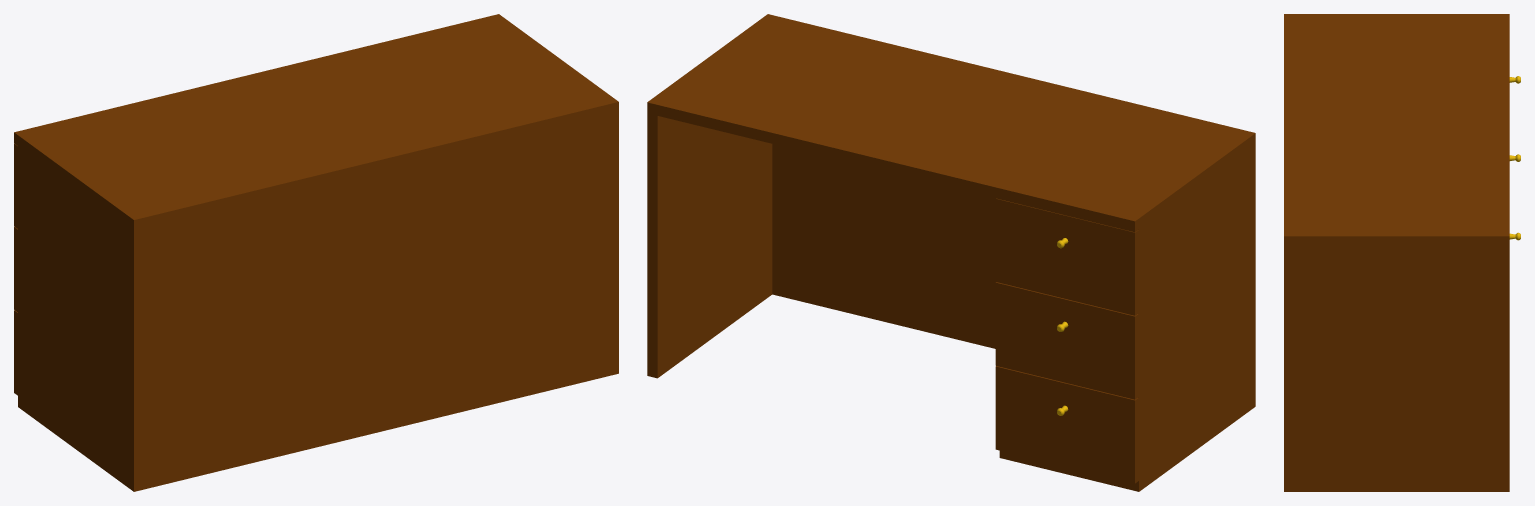
3 renders of one model, left to right at view 1: azimuth 30°, elevation 25°; view 2: azimuth 150°, elevation 25°; view 3: azimuth 270°, elevation 25°, orthographic. The views are drawn at different scales.
Parts seen in each view (by area): view 1: three_drawer_desk; view 2: three_drawer_desk; view 3: three_drawer_desk.
Part boxes in pixels (x1,y1,x2,y2): three_drawer_desk: [14, 14, 618, 491]; three_drawer_desk: [647, 14, 1255, 491]; three_drawer_desk: [1284, 14, 1520, 491].
Bounding box in the file's own units: 1.4 × 0.63 × 0.75.
